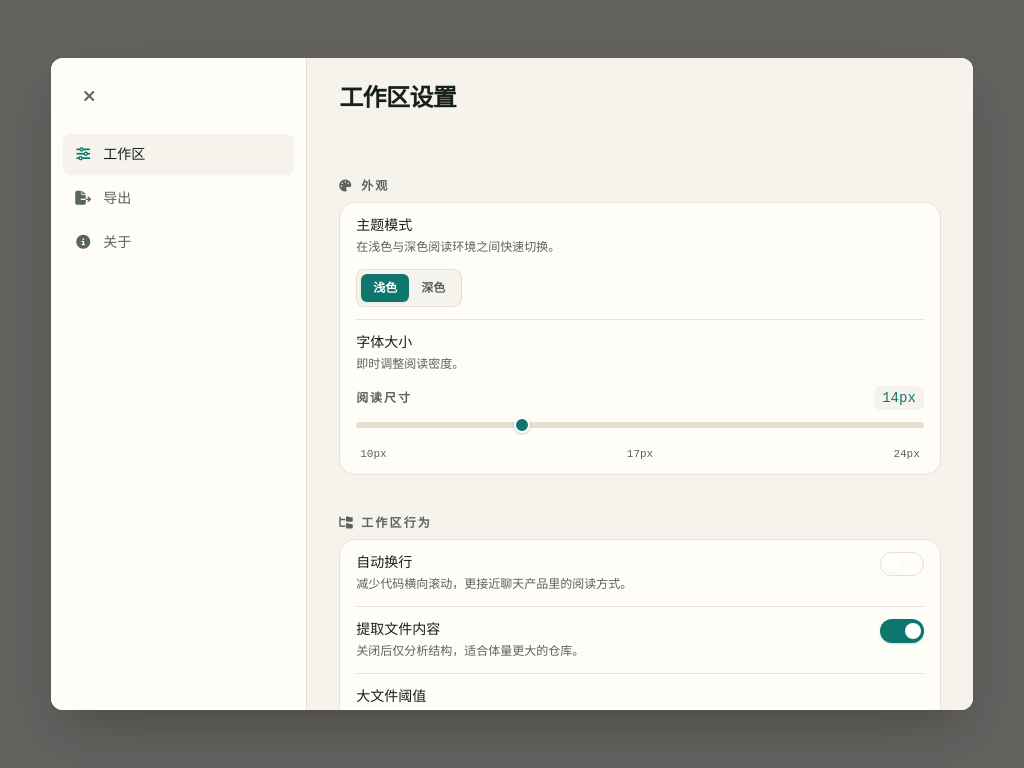
Scenario: SettingsDialog › makes export line-number scope explicit
Click the tab "导出" at coordinates (179, 198), box [63,178,294,218]
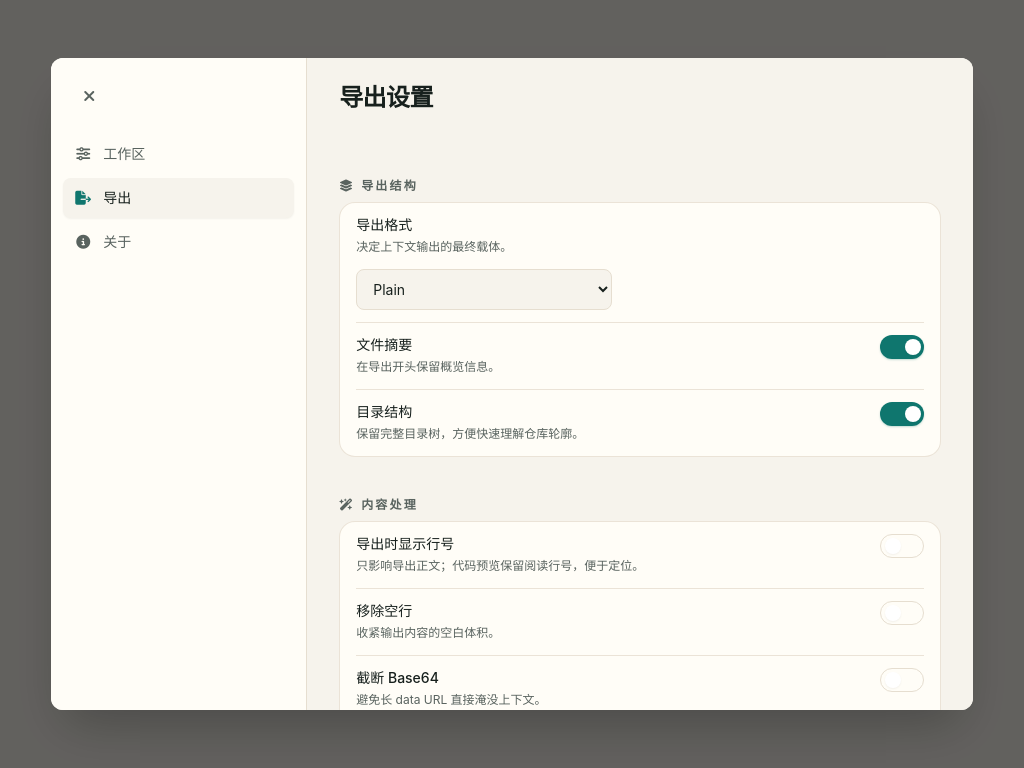
Now the text "导出时显示行号" is shown, box [356,535,454,552]
